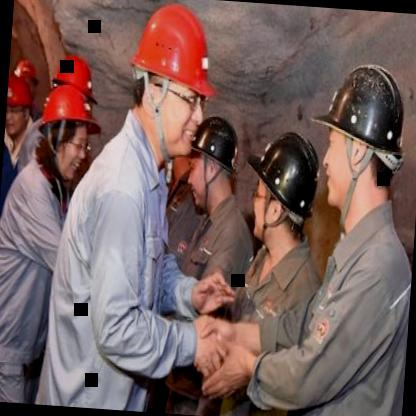helmet: (306, 54, 412, 223), (122, 0, 218, 157), (240, 125, 321, 243), (31, 86, 106, 182), (184, 113, 242, 210), (48, 50, 103, 122), (5, 74, 34, 138), (14, 56, 41, 98)
